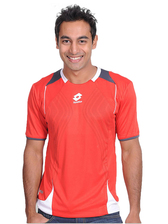clothoes: (19, 65, 141, 216)
